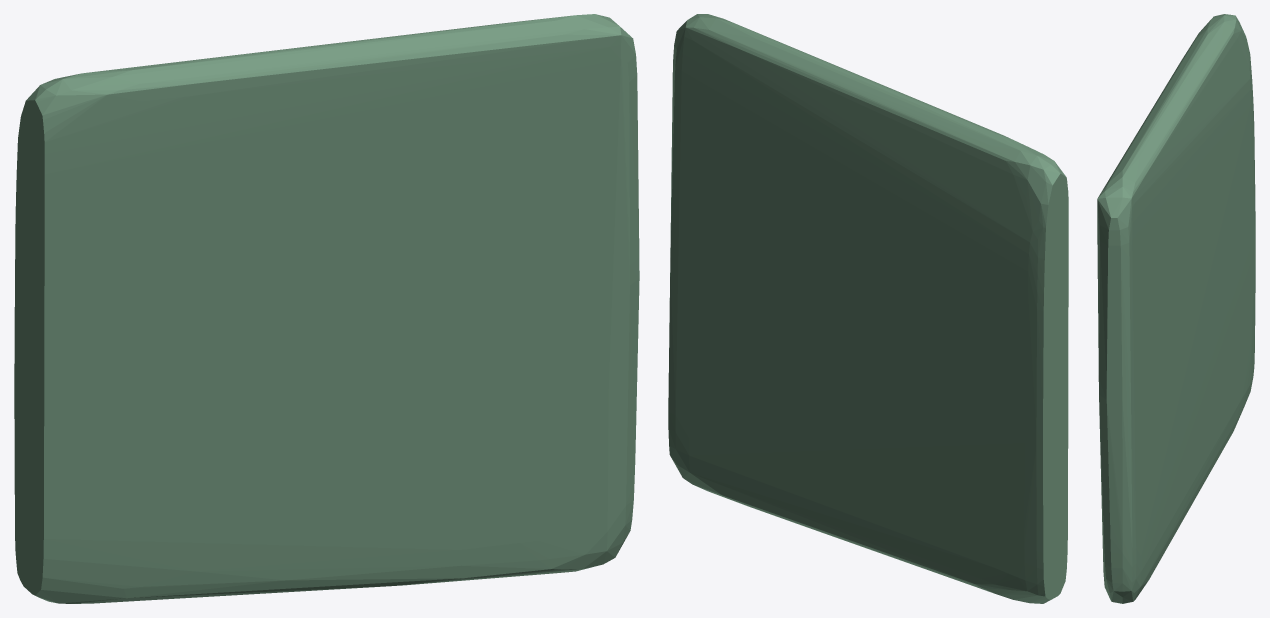
3 renders of one model, left to right at view 1: azimuth 30°, elevation 25°; view 2: azimuth 150°, elevation 25°; view 3: azimuth 270°, elevation 25°, orthographic. The views are drawn at different scales.
Size of the model in its own units: 0.0951 by 0.0959 by 0.0327.
